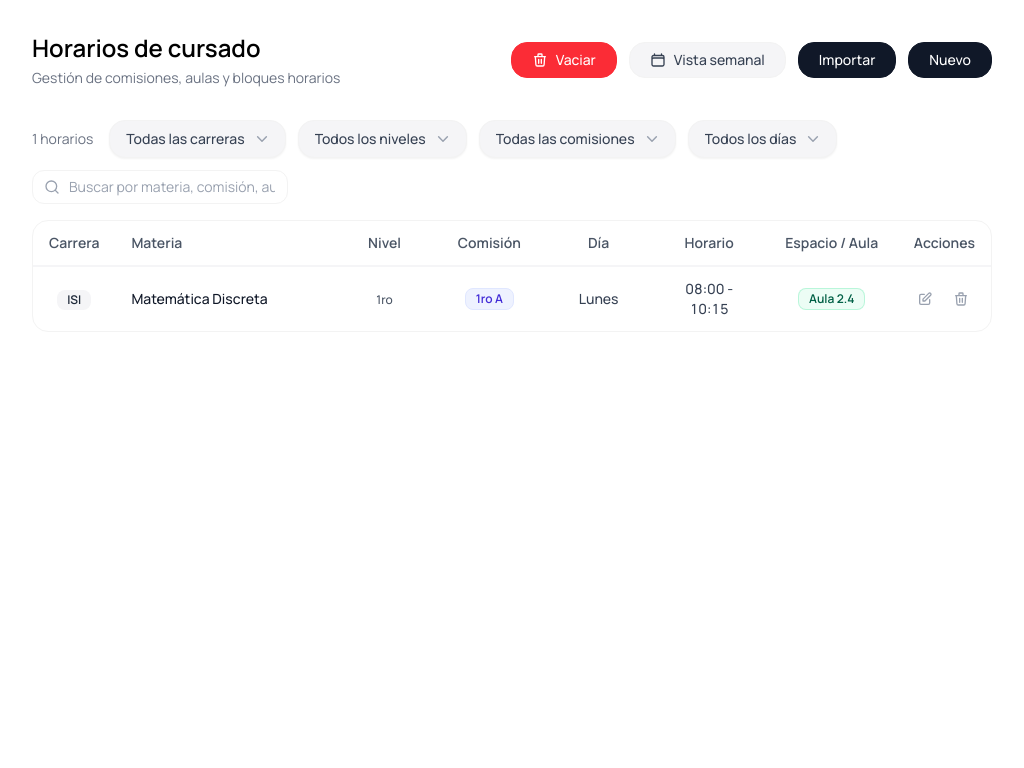
Test: MateriasHorariosPage › permite abrir el modal de edición de un horario
The width and height of the screenshot is (1024, 768).
Expected: the text "Matemática Discreta" is shown, [131,289,268,308]
Click the button titled "Editar".
click(925, 299)  # box [911,285,939,313]
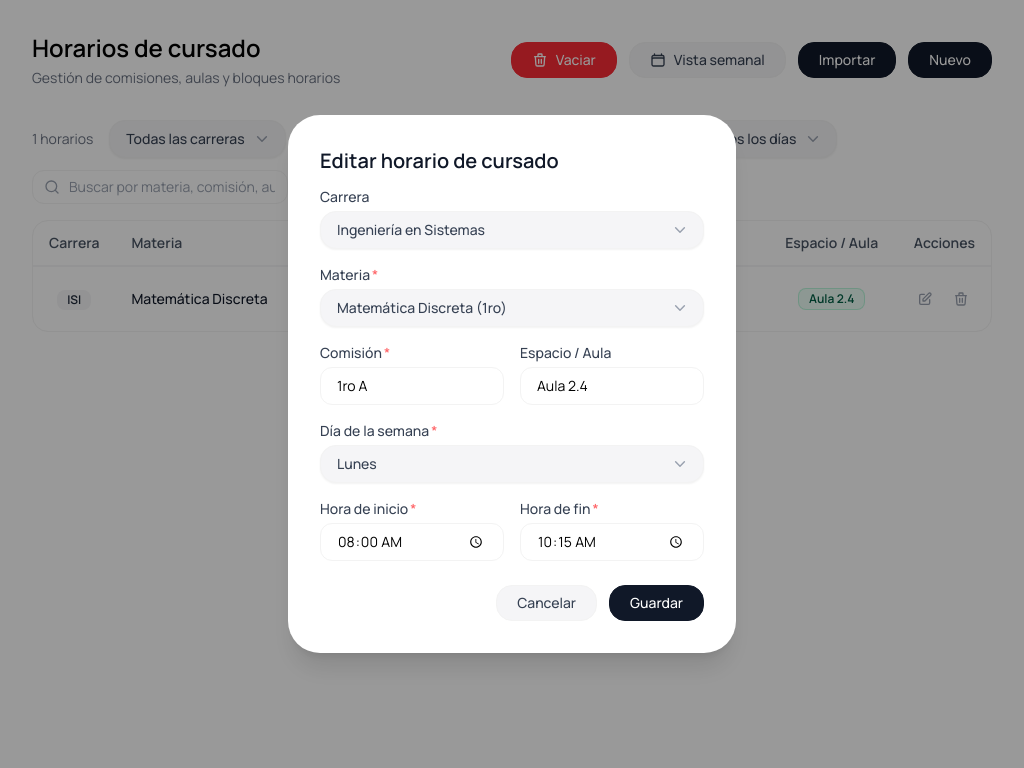
Expected: the heading "Editar horario de cursado" is shown, [320,147,559,174]
Expected: the field showing "Aula 2.4" is shown, [520,367,704,405]
